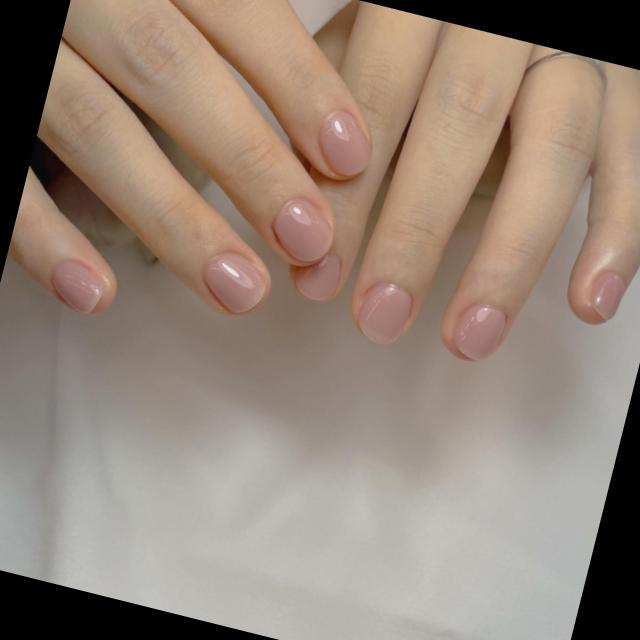Nail: (272, 197, 333, 261), (204, 251, 266, 312), (317, 109, 372, 175), (357, 282, 412, 344), (453, 303, 506, 360), (51, 260, 103, 314), (292, 250, 341, 300), (589, 270, 625, 320)
